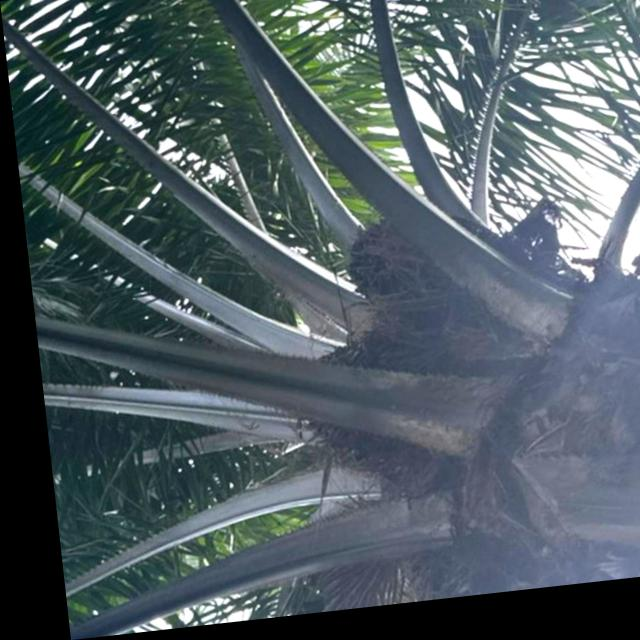unripe: (332, 213, 475, 351)
